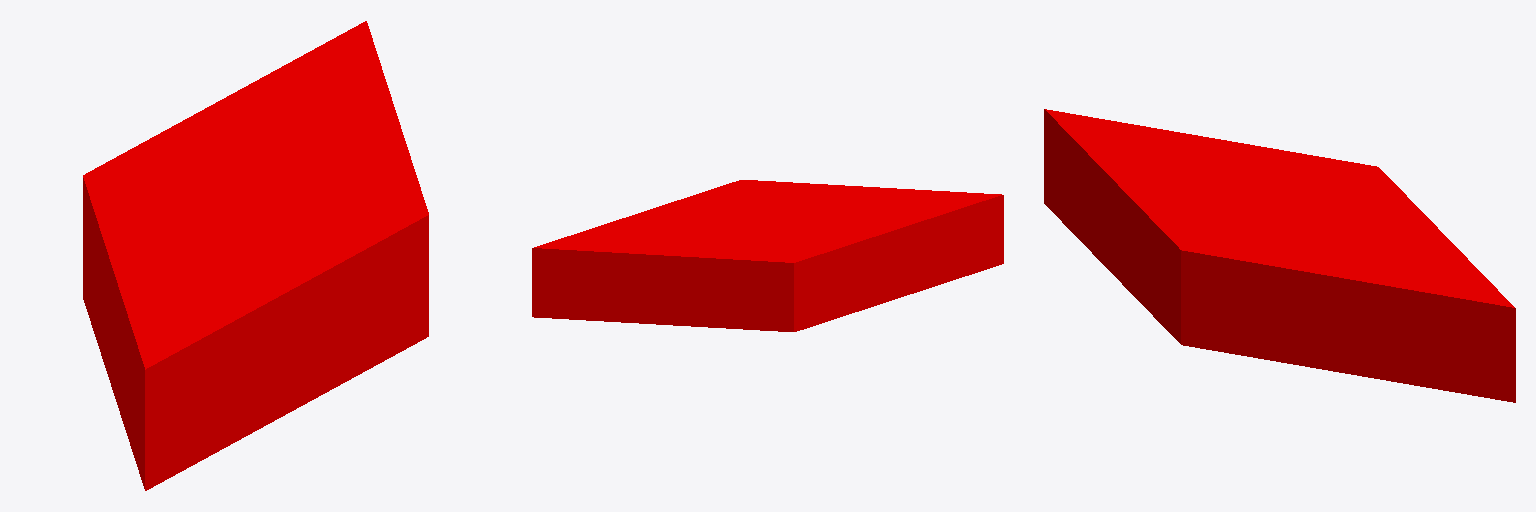
URDF robot description (parallelogram_block):
<?xml version="1.0"?>
<robot name="parallelogram_block">
  <link name="block">
    <visual>
      <geometry>
        <mesh filename="./config/assets/parallelogram.dae"/>
      </geometry>
    </visual>

    <collision>
      <geometry>
        <mesh filename="./config/assets/parallelogram.dae"/>
      </geometry>
    </collision>
  </link>

</robot>

--- Render facts (derived) ---
3 views of the same robot in one strip: view 1: azimuth 30°, elevation 25°; view 2: azimuth 150°, elevation 25°; view 3: azimuth 270°, elevation 25° (orthographic).
Model parallelogram_block with 1 links and 0 joints (none), rooted at block, posed all joints at 0.
Visible links, largest first — view 1: block; view 2: block; view 3: block.
Boxes of the visible links, left/top/right/bottom form: block: left=83, top=21, right=428, bottom=490; block: left=532, top=180, right=1003, bottom=331; block: left=1044, top=109, right=1515, bottom=402.
Size in the robot's own frame: 0.09 by 0.09 by 0.02 metres.
Meshes: 1 distinct files referenced, 1 mesh visuals loaded (1 Collada DAE).